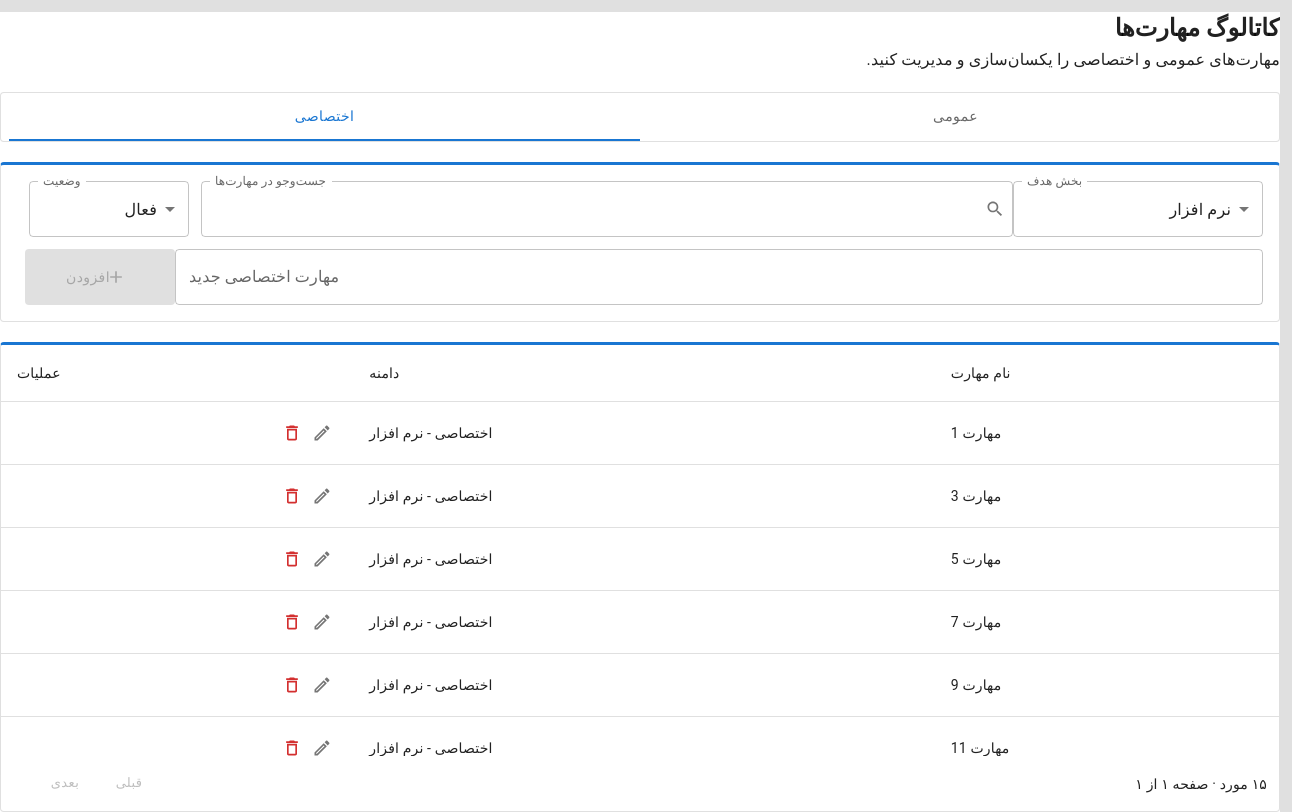
Test: DepartmentCatalogPage › separates public and department skills and labels each department scope
Check: the heading "کاتالوگ مهارت‌ها" is shown, box [1115,14,1280,42]
Check: the tab "اختصاصی" is shown, box [9,93,640,141]
Click the tab "عمومی": (956, 117) [640,93,1271,141]
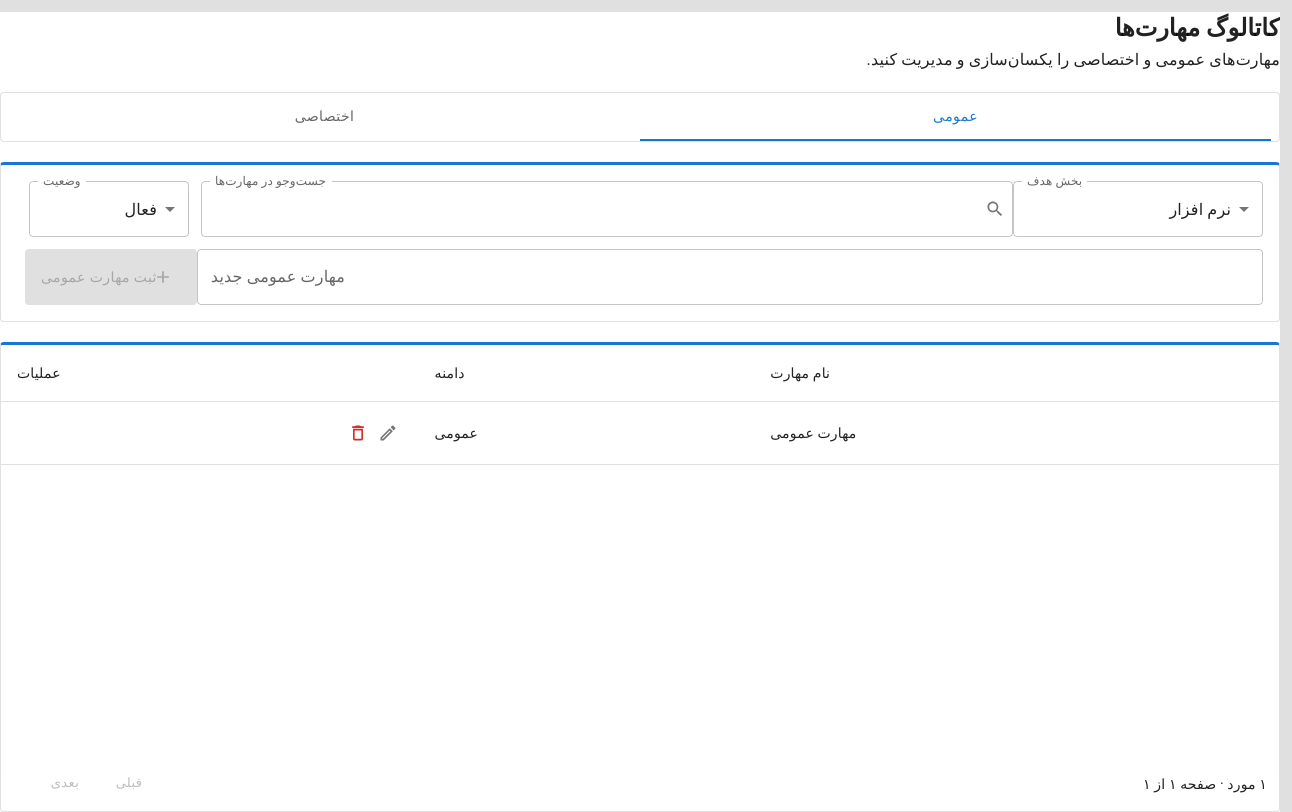
Check: the text "مهارت عمومی" is shown, box [754,402,1279,465]
Check: the button "ثبت مهارت عمومی" is shown, box [25,249,197,305]
Click the tab "اختصاصی": (324, 117) [9,93,640,141]
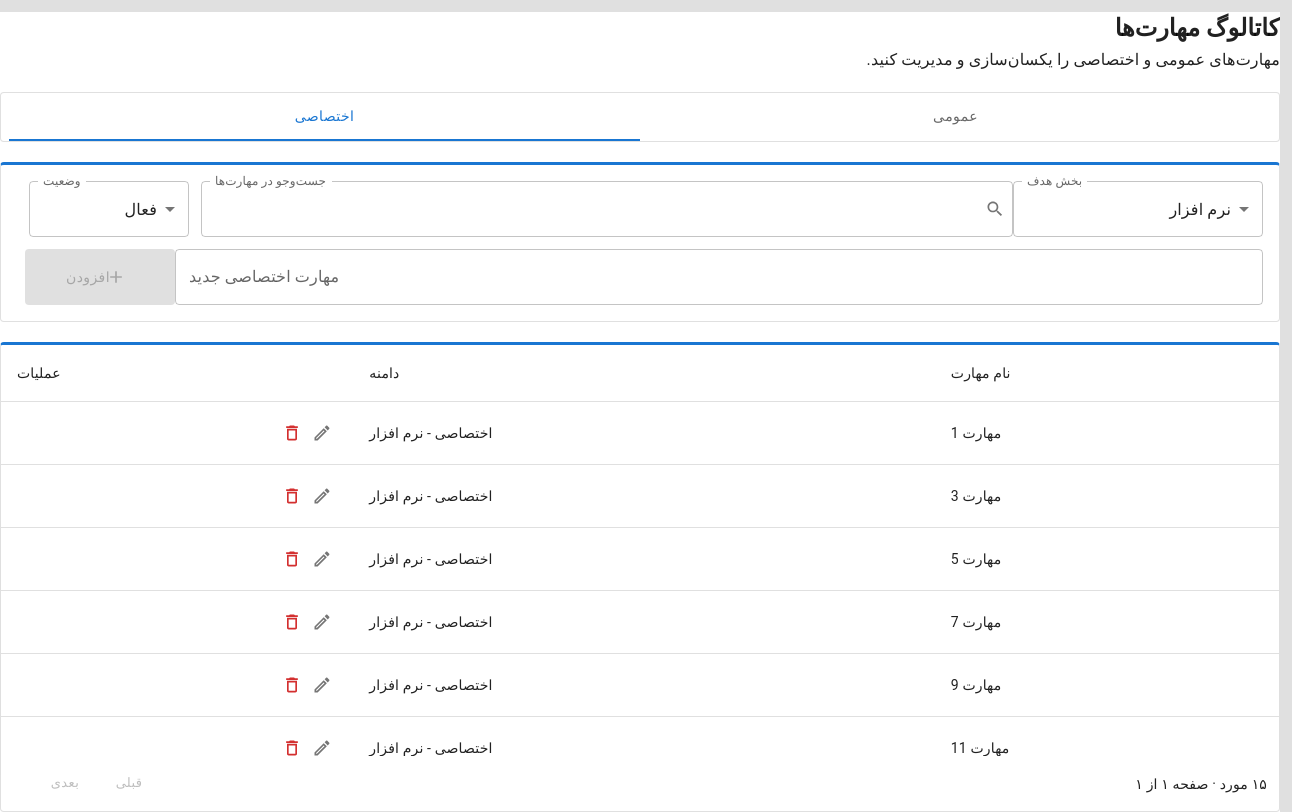
Click the dropdown named "بخش هدف": (1200, 209) [1169,200,1231,218]
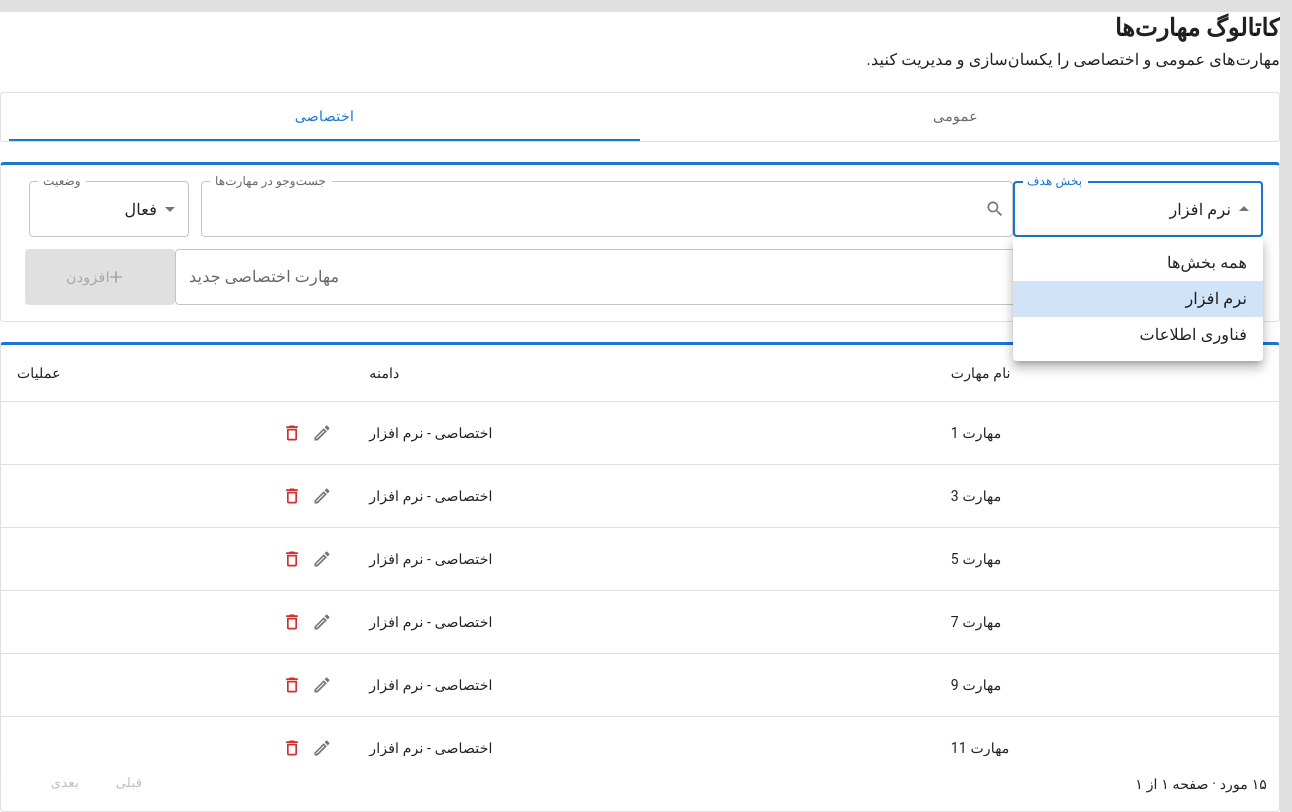
Click the option "همه بخش‌ها": (1207, 262) [1167,253,1247,272]
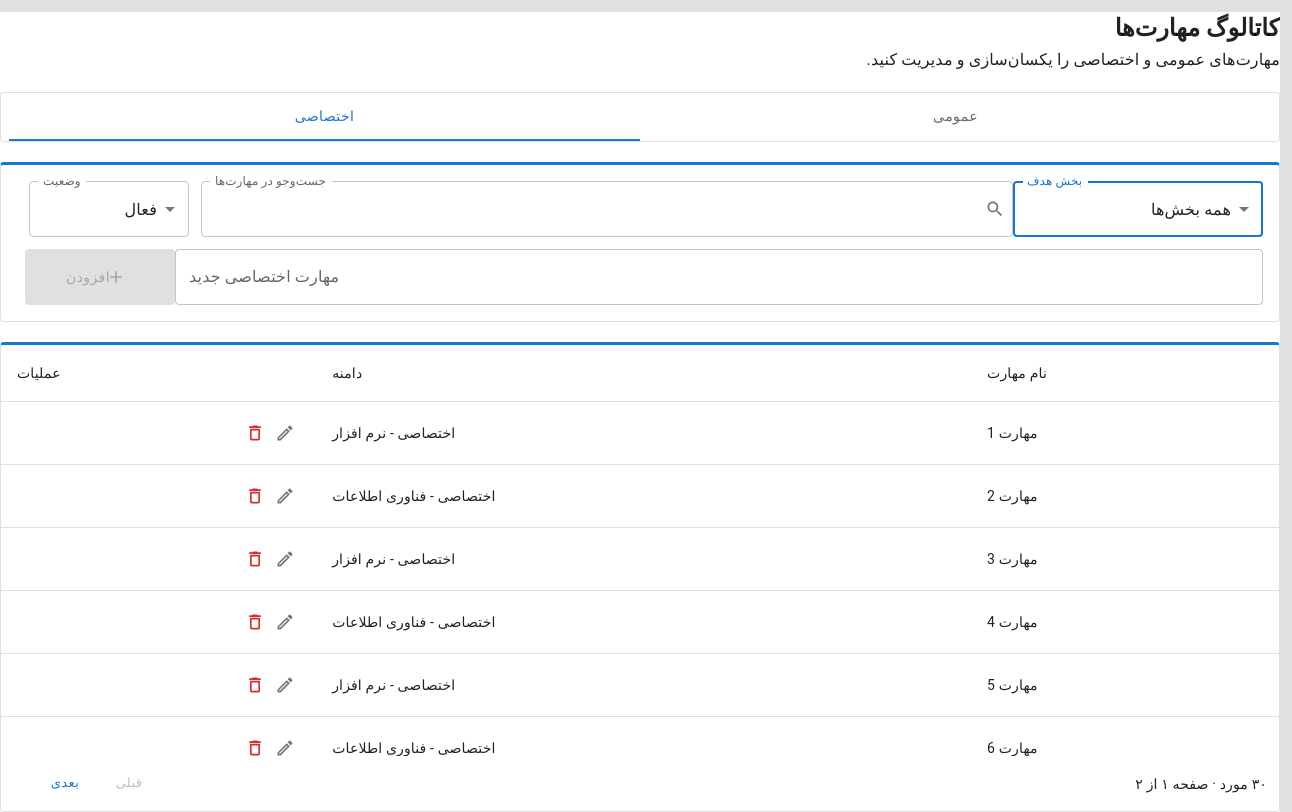
Check: the text "اختصاصی - نرم افزار" next to "مهارت 1" is shown, box [332,425,455,441]
Check: the text "۳۰ مورد · صفحه ۱ از ۲" is shown, box [1135,774,1267,794]
Check: the text "اختصاصی - فناوری اطلاعات" next to "مهارت 2" is shown, box [332,488,496,504]
In the field labelled "جست‌وجو در مهارت‌ها": (600, 209) [215,181,985,237], type "مهارت 30"
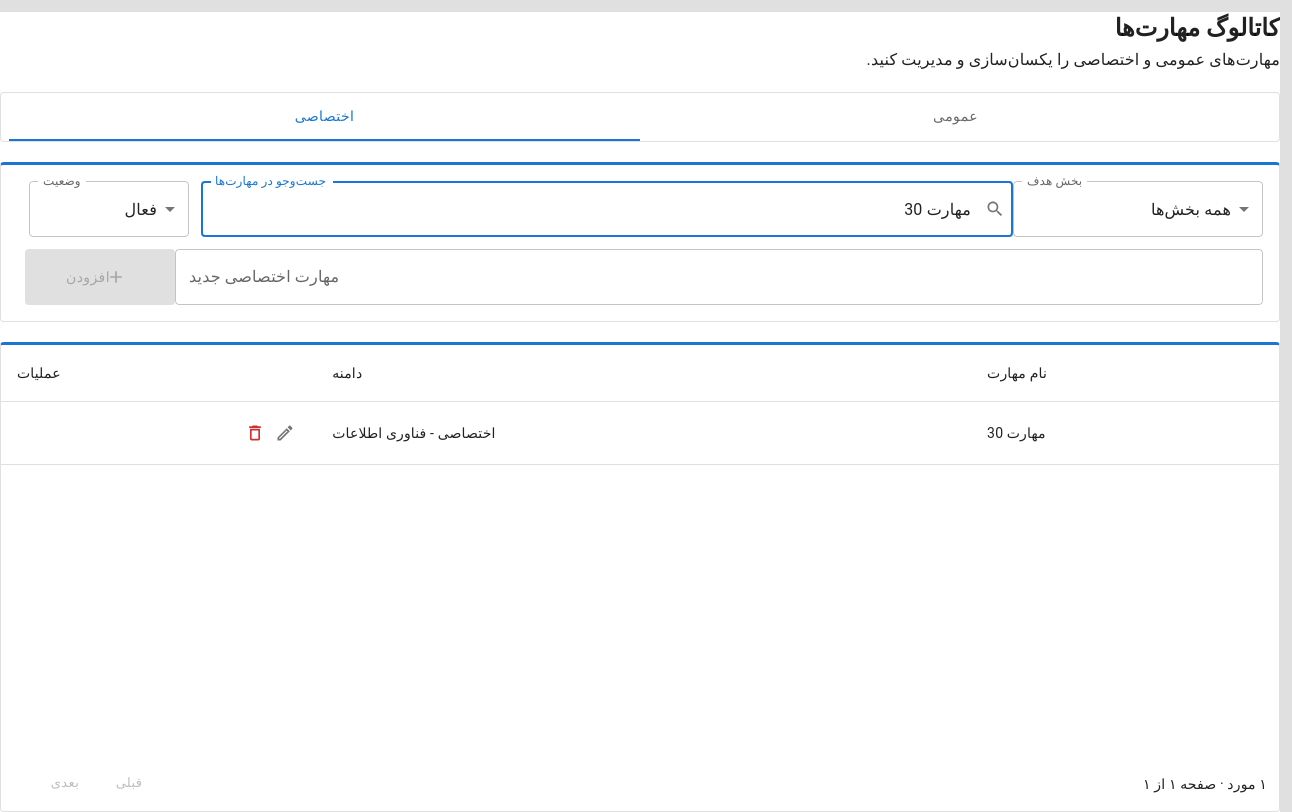
Check: the text "مهارت 30" is shown, box [971,402,1279,465]
Check: the text "مهارت 1" is gone
